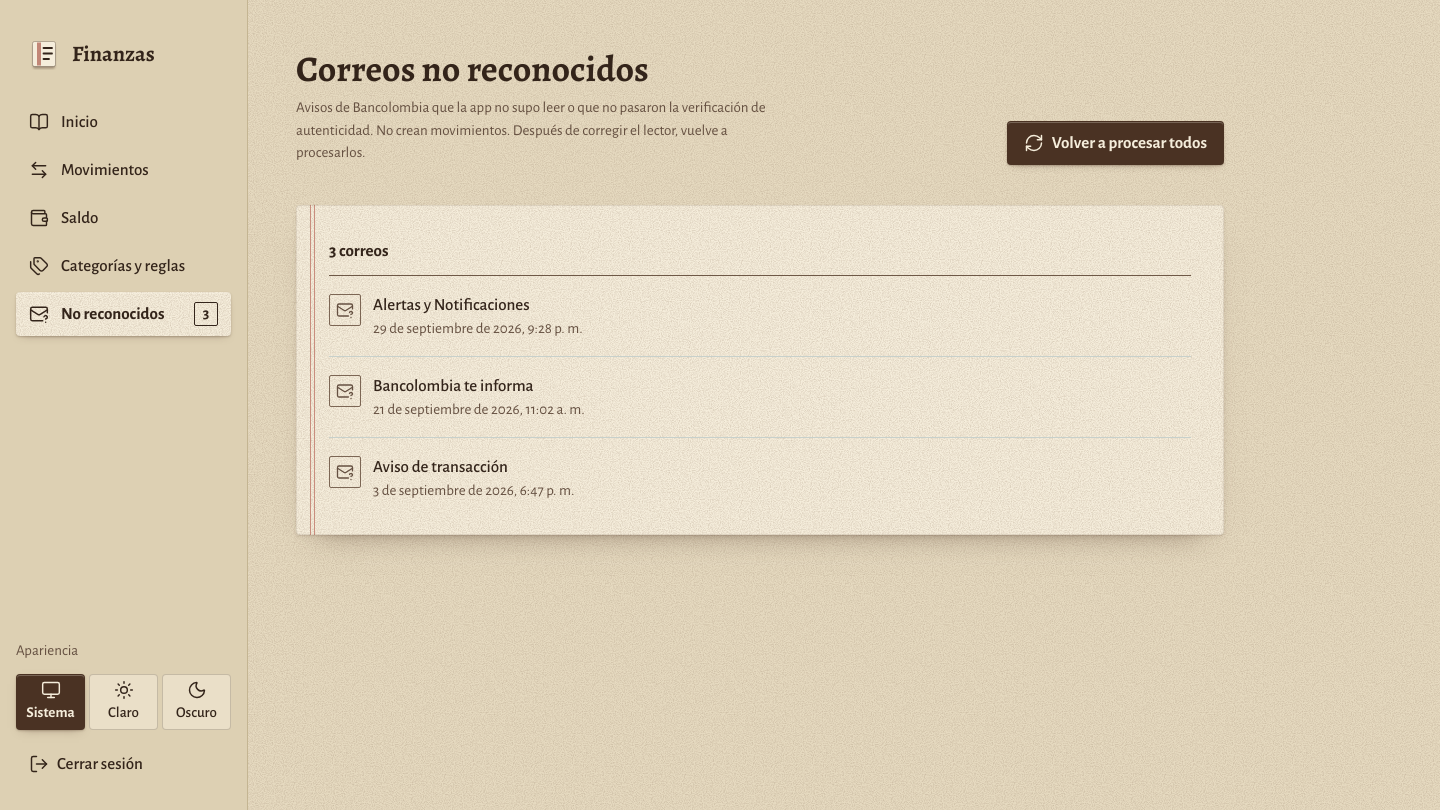
Scenario: Correos no reconocidos › un correo que sigue sin reconocerse permanece en la lista
Click the button "Volver a procesar todos".
click(1115, 143)  # box [1007,121,1224,165]
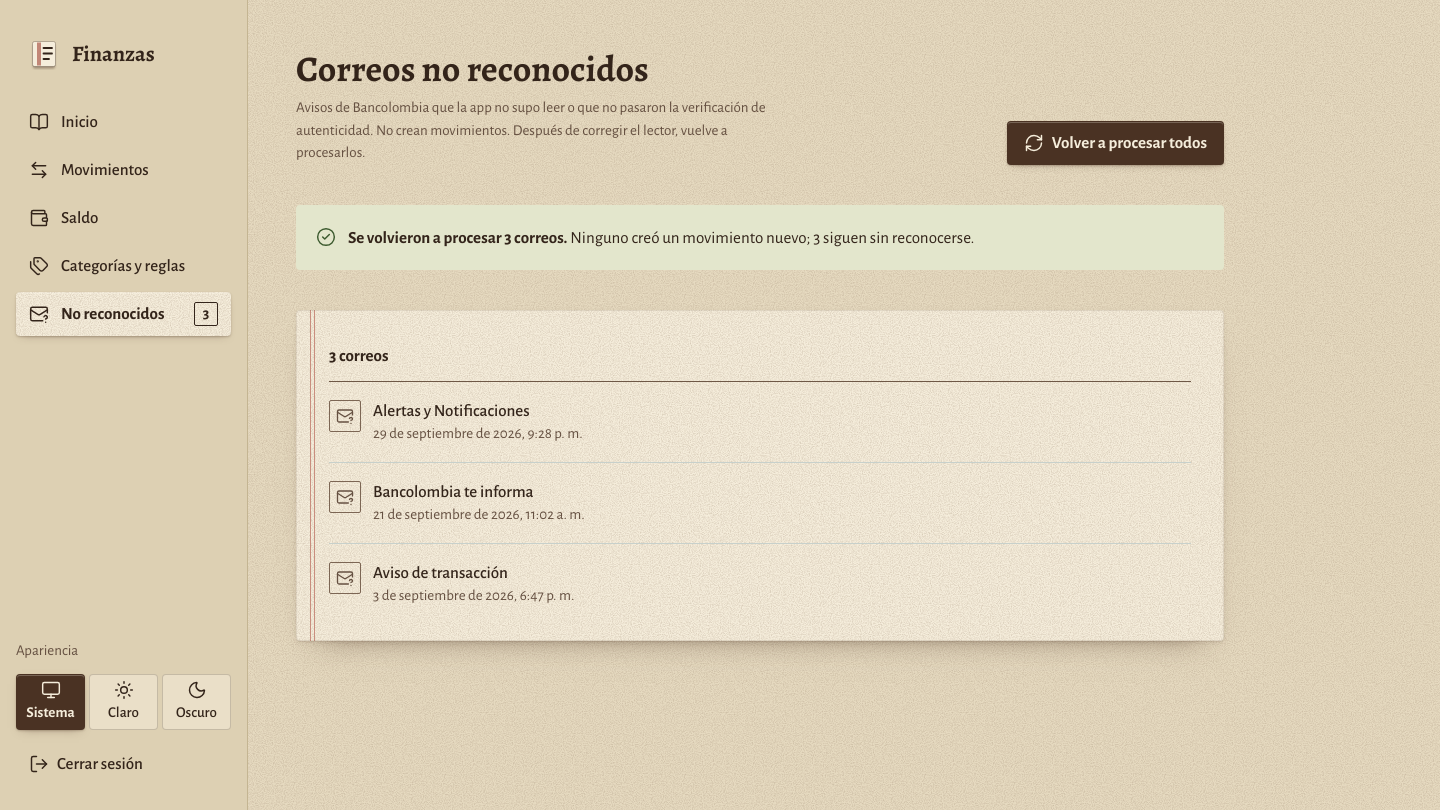
Result: the message shows "Ninguno creó un movimiento nuevo; 3 siguen sin reconocerse." at [567,229,974,246]
